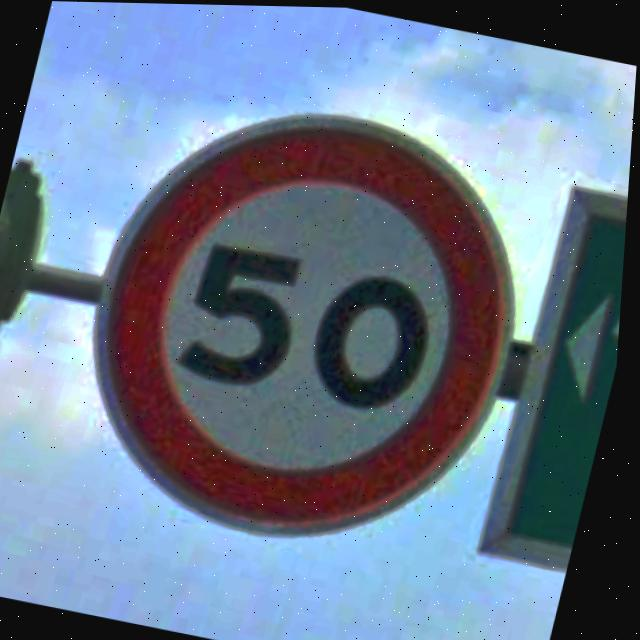max50: (49, 69, 565, 573)
